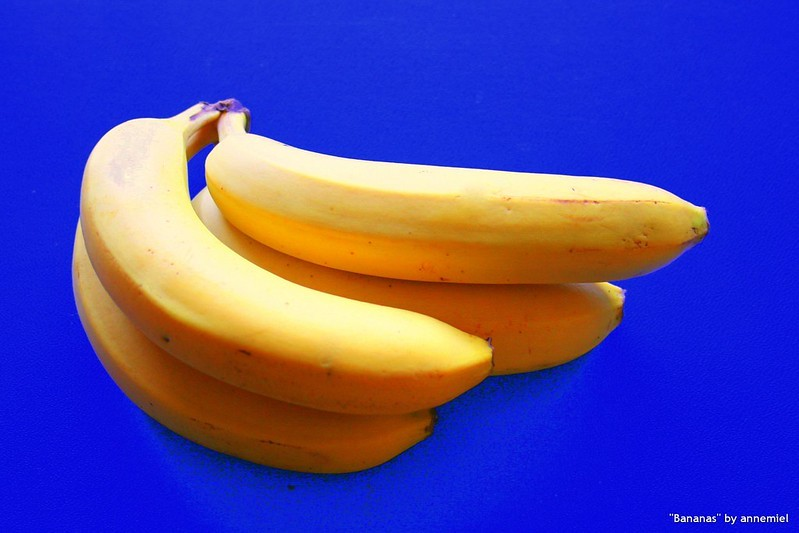banana: (69, 102, 708, 469)
